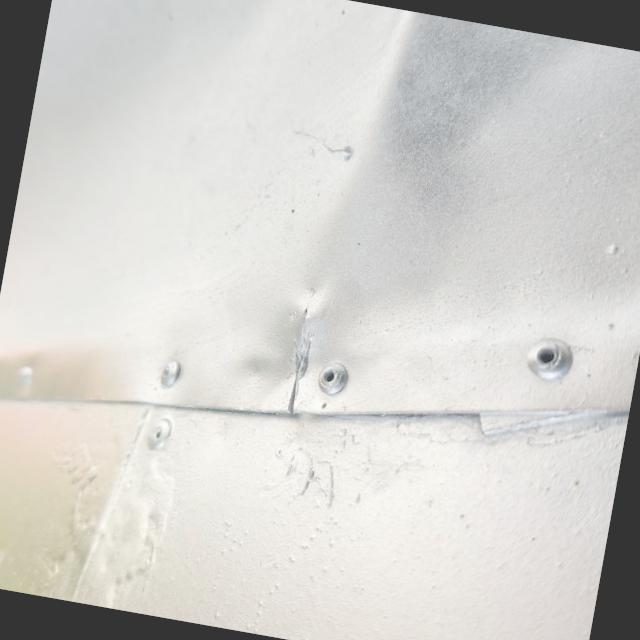crack: (238, 290, 350, 440)
dent: (201, 0, 602, 437)
